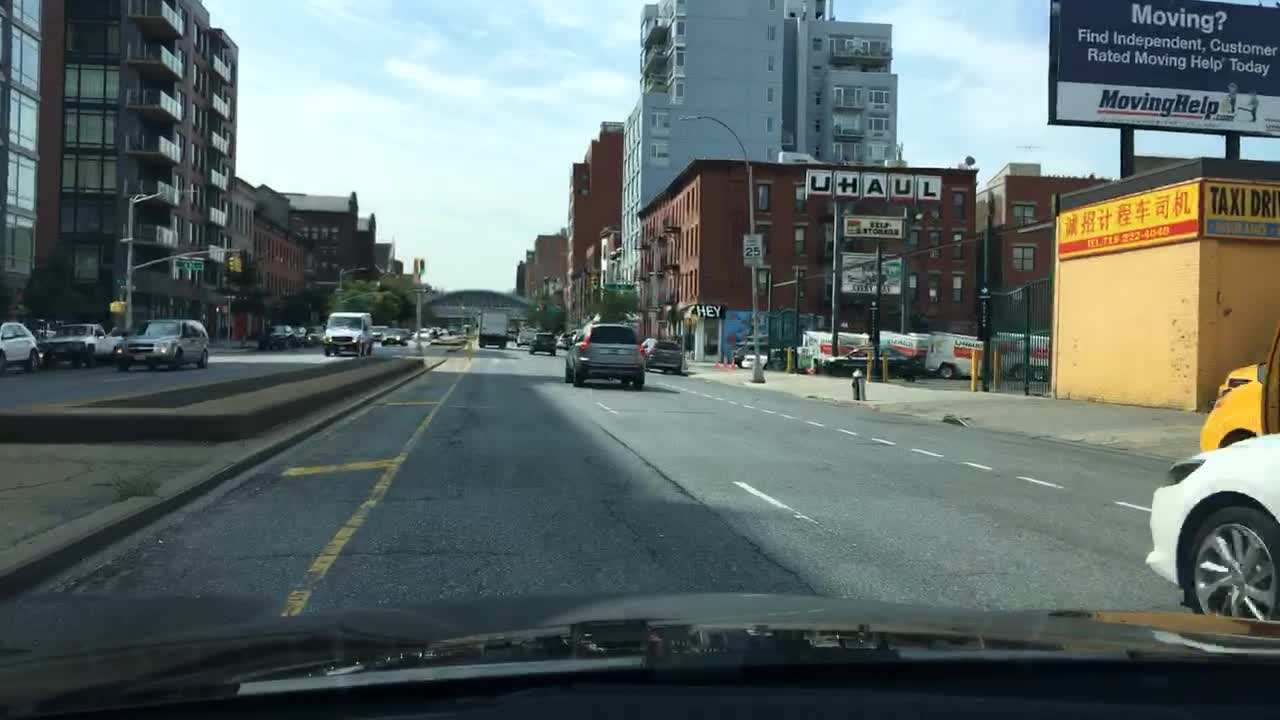car: (1145, 431, 1278, 621), (1199, 324, 1278, 449), (562, 324, 646, 386), (119, 316, 212, 370), (823, 345, 923, 383), (923, 332, 985, 378), (324, 310, 374, 356), (0, 320, 41, 373), (641, 339, 681, 371), (741, 348, 797, 369), (727, 336, 769, 363), (263, 324, 294, 348), (530, 333, 556, 355), (383, 329, 409, 346), (306, 324, 324, 344), (296, 326, 310, 345), (373, 326, 388, 343), (517, 329, 532, 346), (557, 333, 571, 349), (411, 329, 432, 338), (431, 326, 442, 336)
traffic light: (109, 301, 127, 311), (229, 257, 239, 272), (591, 275, 597, 289), (420, 258, 425, 274)
traffic sign: (743, 234, 762, 267), (177, 259, 205, 272), (603, 284, 632, 291), (209, 247, 223, 260), (408, 288, 430, 294), (122, 283, 134, 290)
truck: (41, 323, 124, 365), (476, 306, 509, 348)
